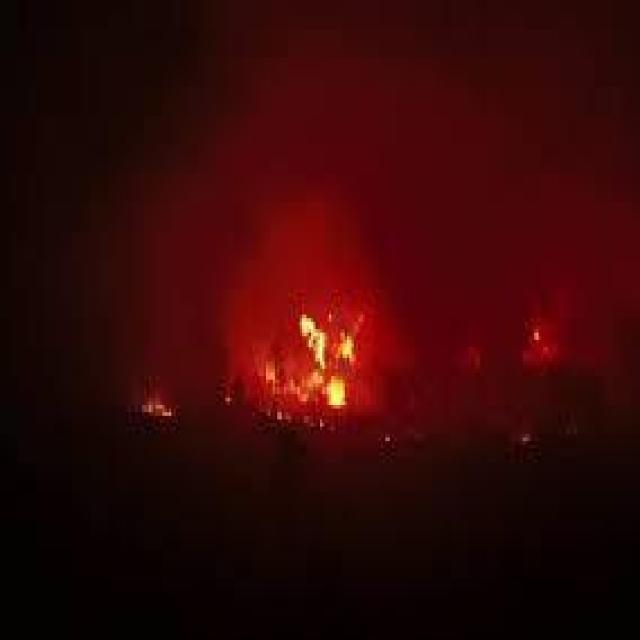Fire: (296, 311, 362, 413), (132, 368, 180, 426)
Smoke: (148, 9, 635, 428)
